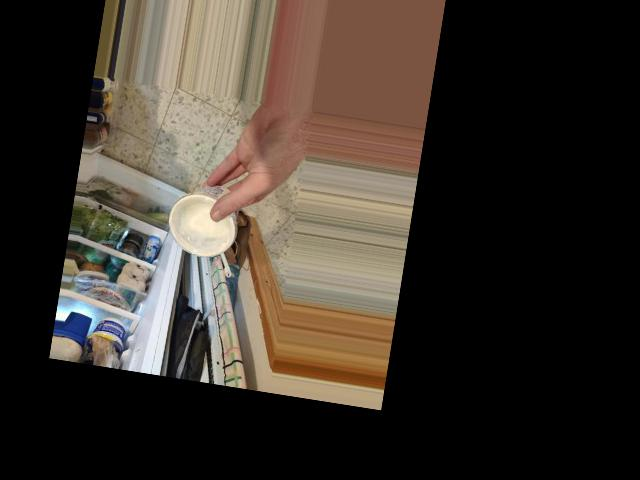cotage: (166, 175, 246, 270)
